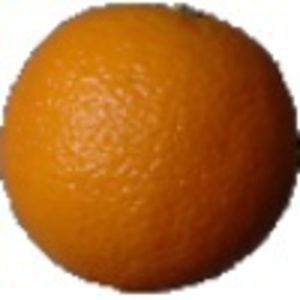laranja: (2, 3, 298, 293)
